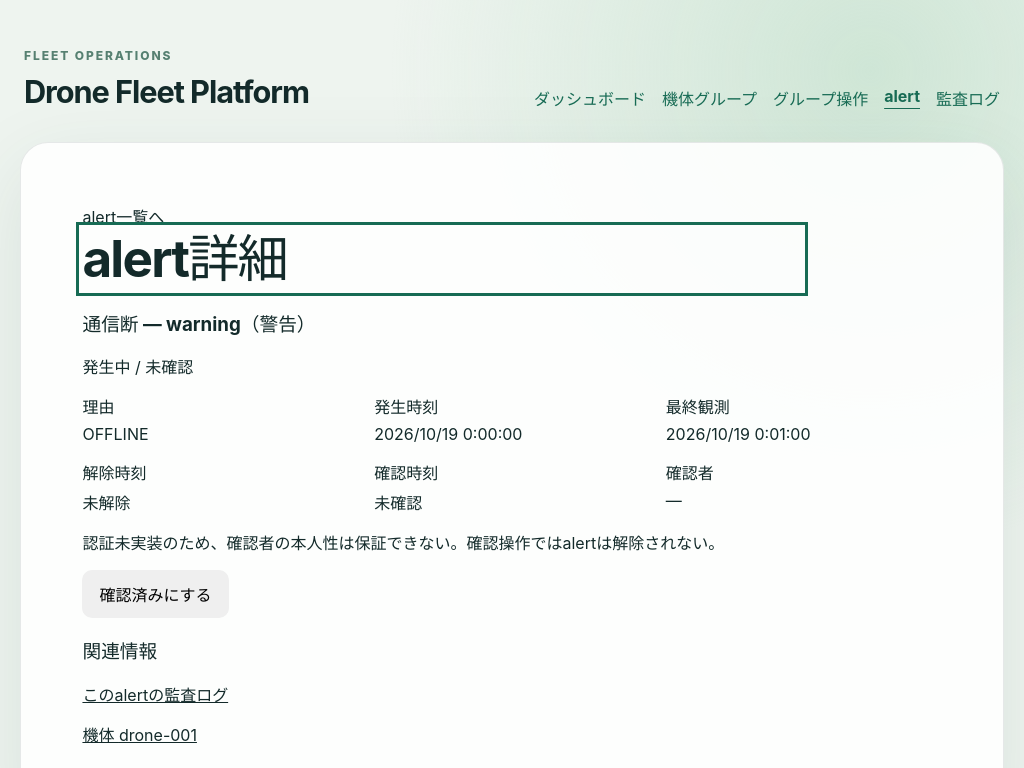
acknowledges independently from active/resolved status with anonymous identity notice
What coordinates should you click on to do the following:
click the button "確認済みにする"
I would click on:
 (156, 594)
Its box is [82,570,229,618].
(page scrolled)
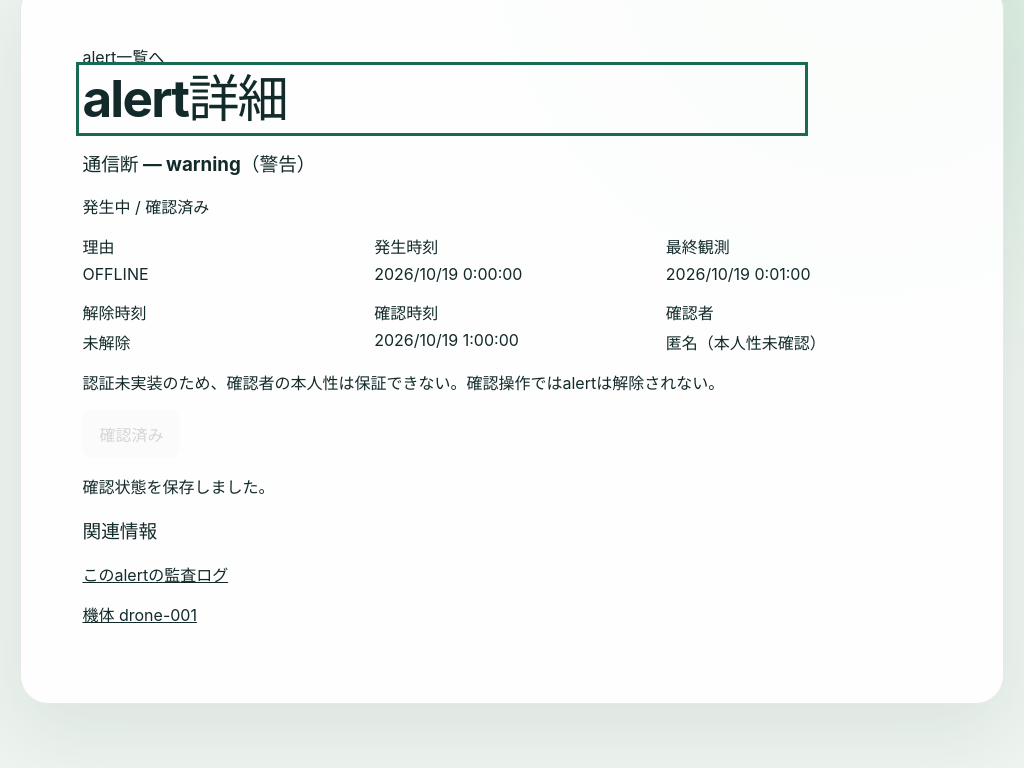
expect the text "確認状態を保存しました。" is shown: met, box [82,476,274,496]
expect the button "確認済み" is disabled: met, box [82,410,180,458]
expect the text "匿名（本人性未確認）" is shown: met, box [666,332,826,352]
